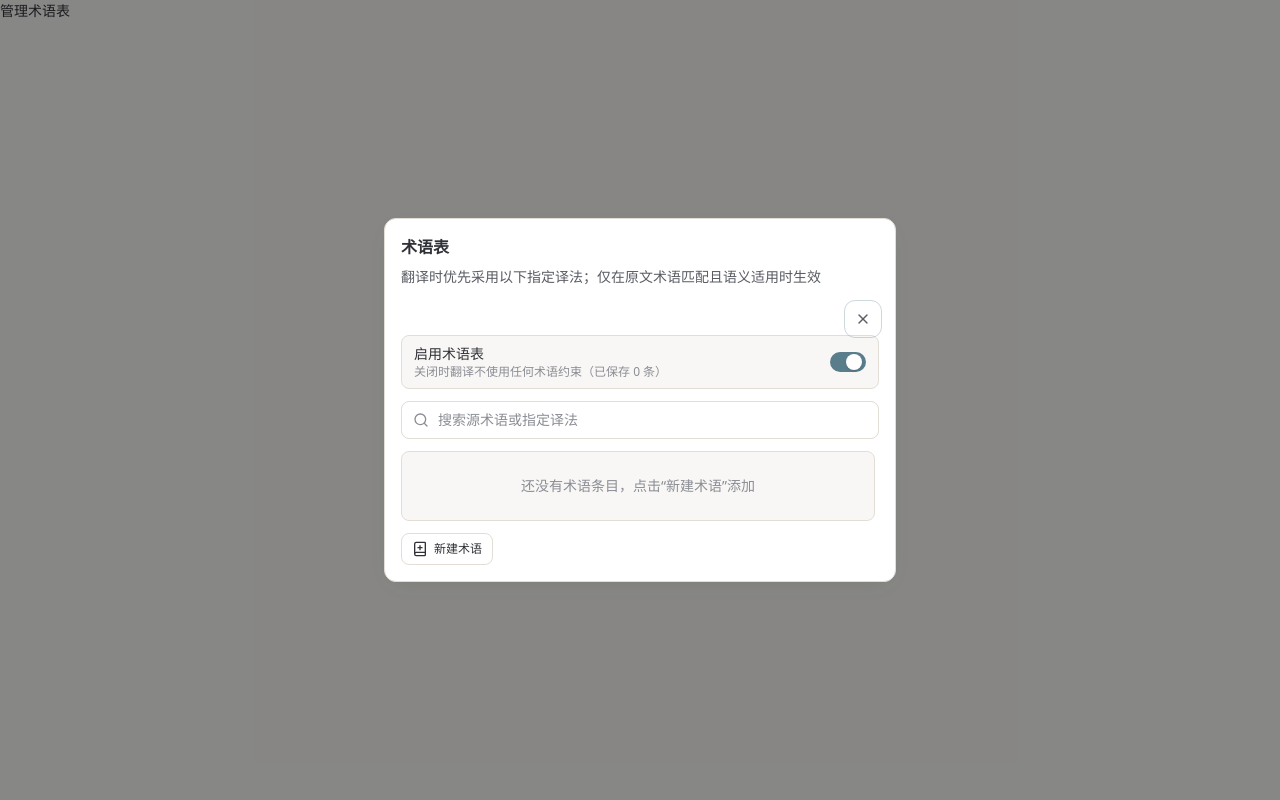
Test: TermbaseDialog › disables save until both fields have content
The image size is (1280, 800).
Click the button "新建术语" at (447, 549), box [401,533,493,565]
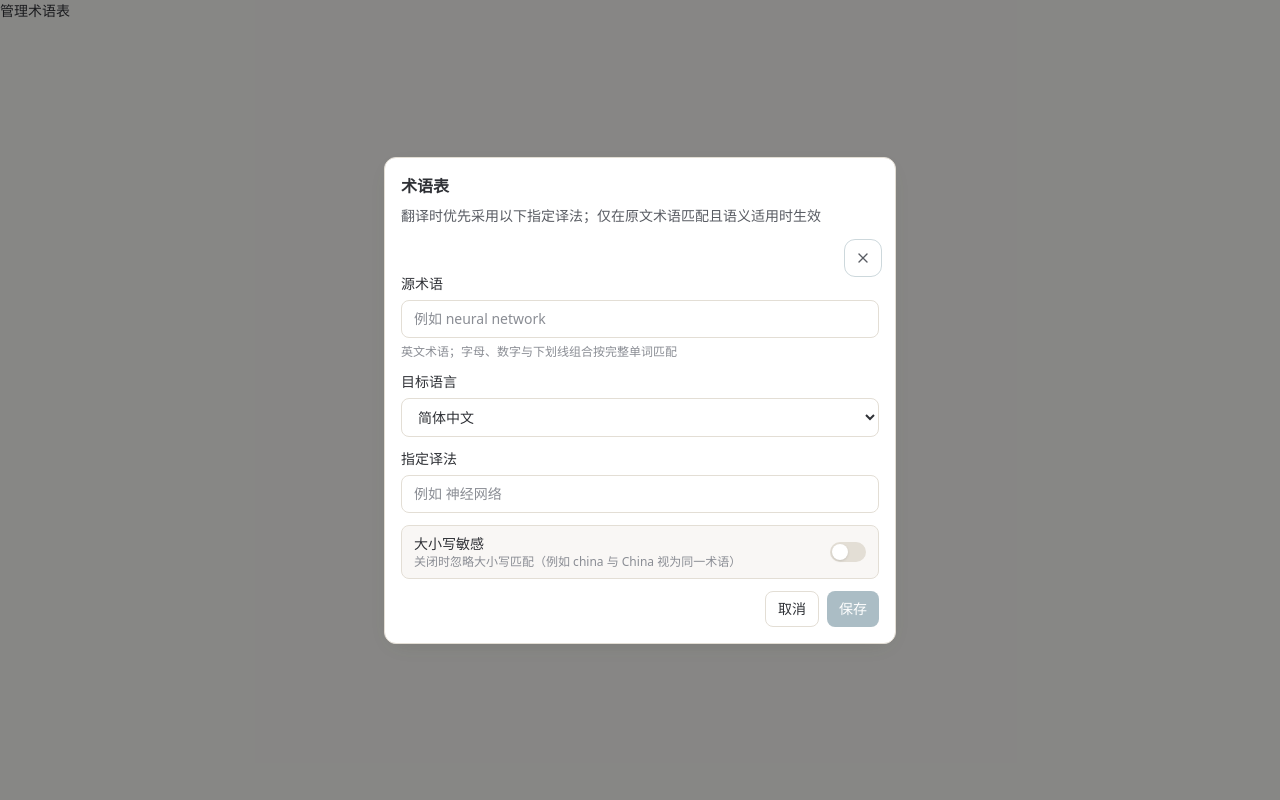
Expected: the button "保存" is disabled, [827,590,879,626]
Type "  function  " into the field labelled "源术语" at (640, 318), box [401,300,879,338]
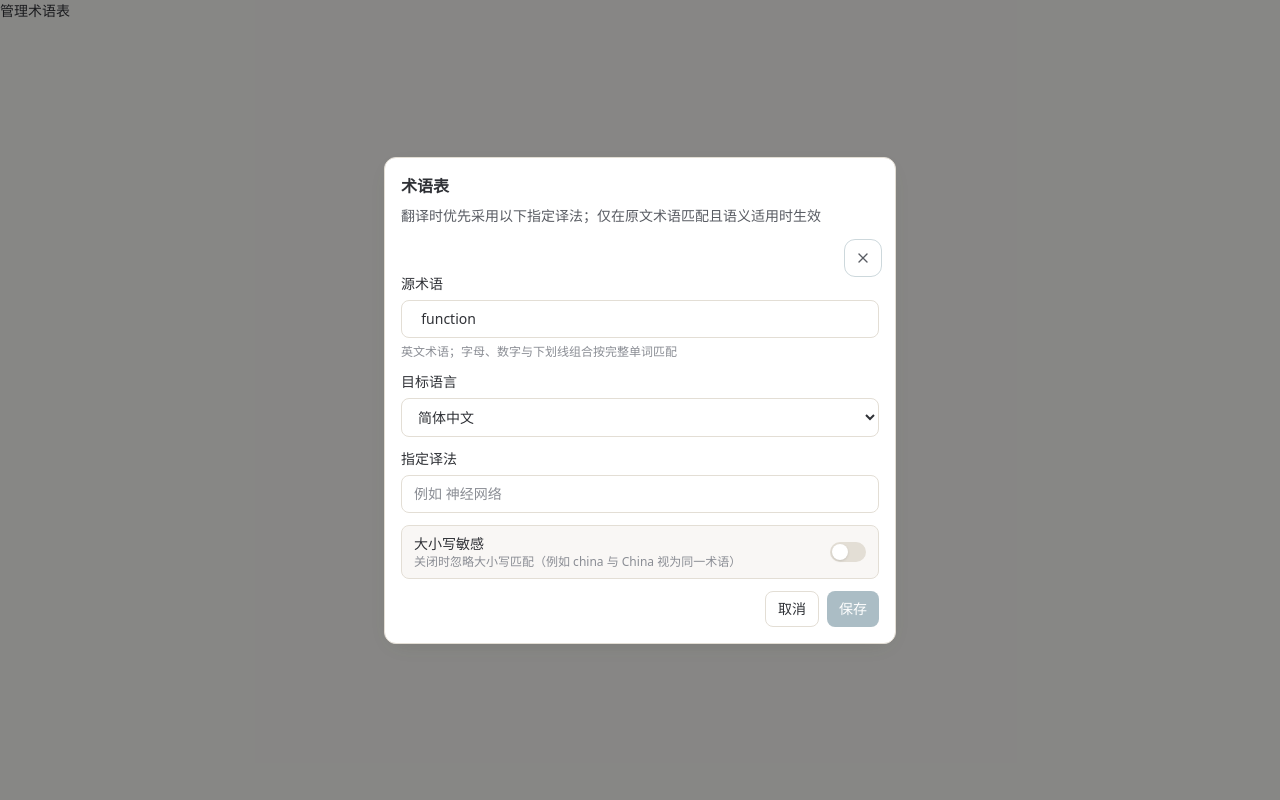
Type "  函数  " into the field labelled "指定译法" at (640, 494), box [401,474,879,512]
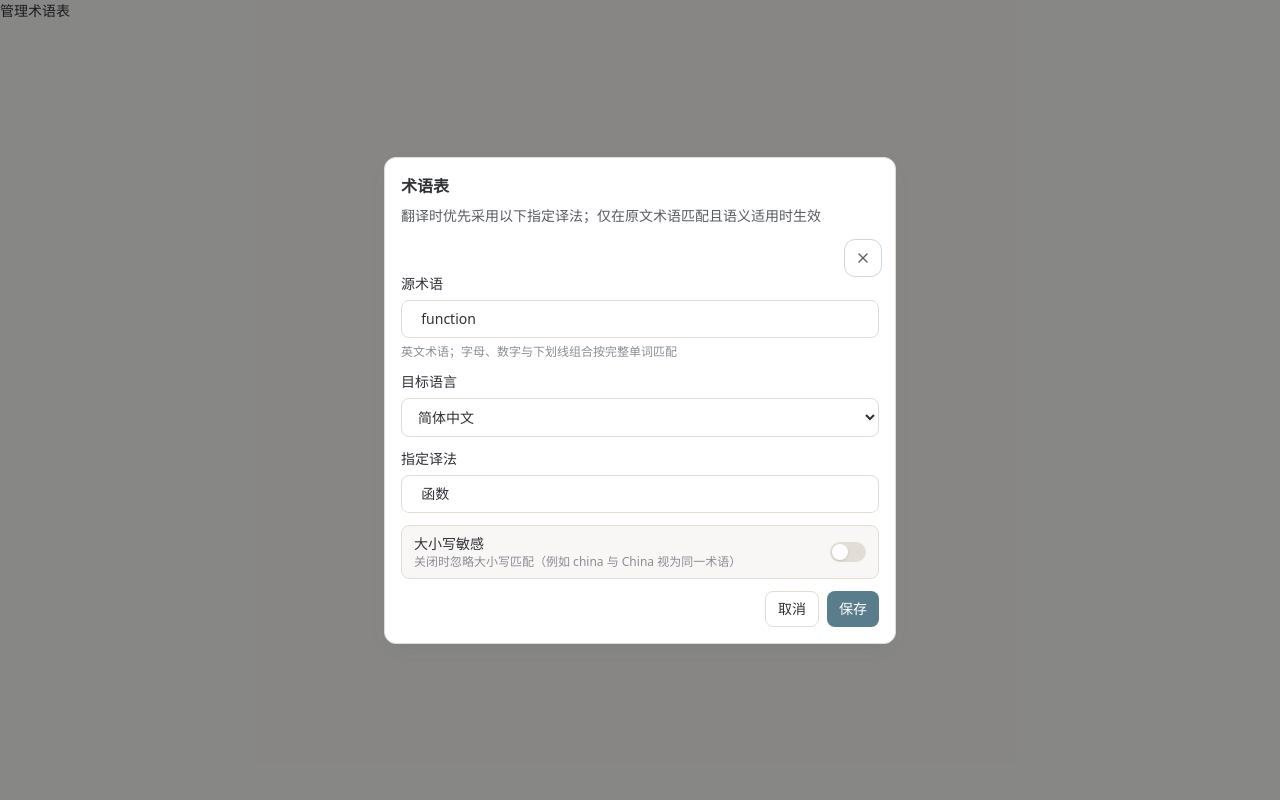
Result: the button "保存" is enabled at [827,590,879,626]
